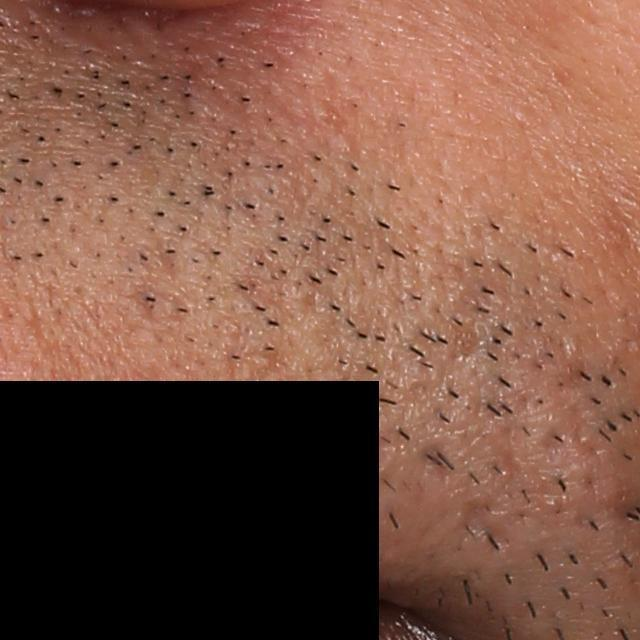atrophic_scar: (453, 494, 517, 552), (416, 443, 458, 485)
